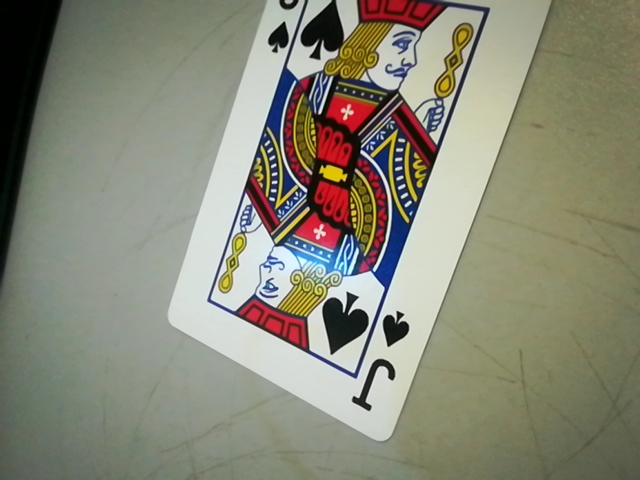ht j: (351, 301, 409, 421)
